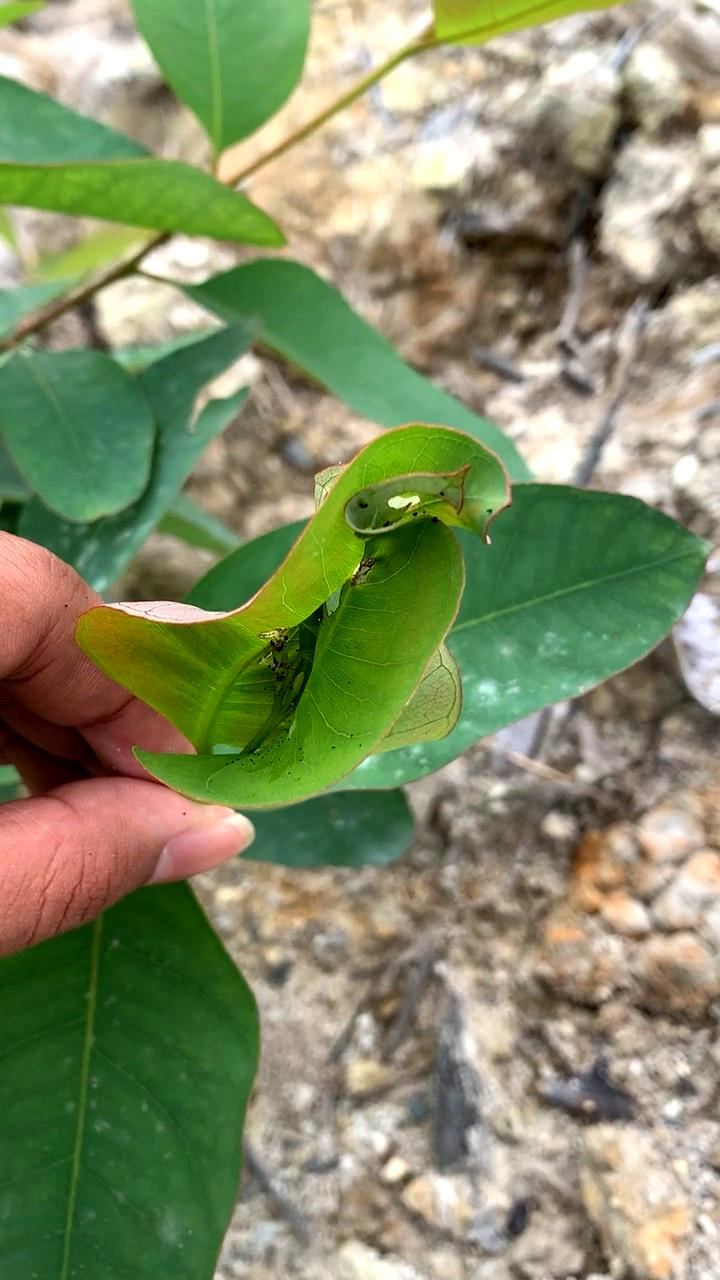Leaf Roller - Leaf: (61, 403, 558, 836)
